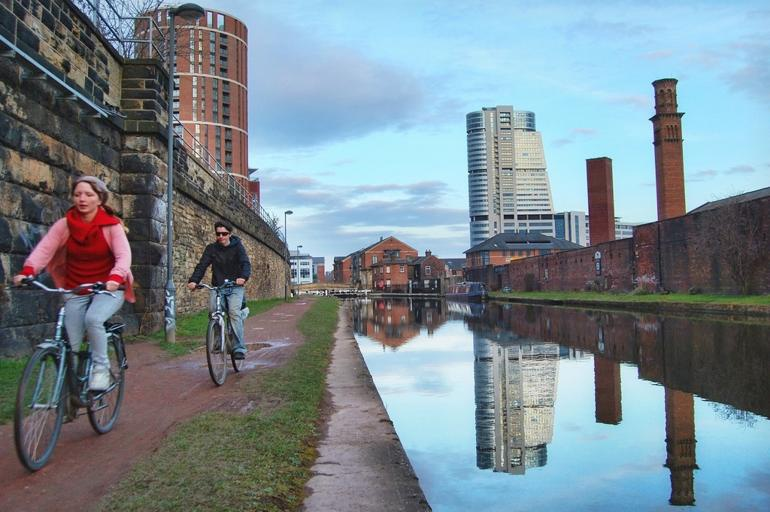non-vehicle: (12, 277, 127, 473), (195, 280, 243, 387)
